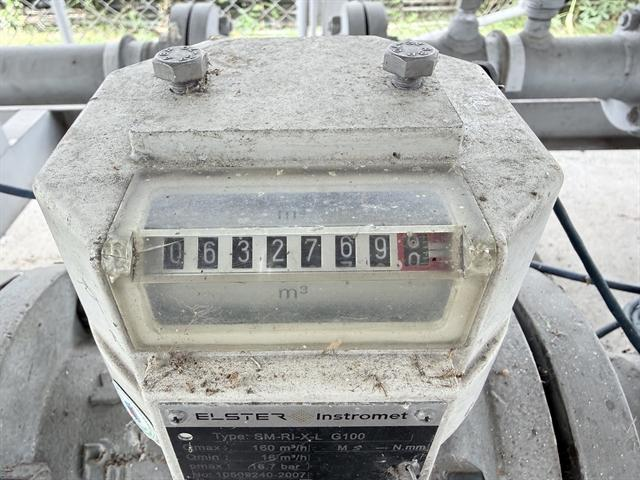analog_dial: (143, 233, 454, 277)
